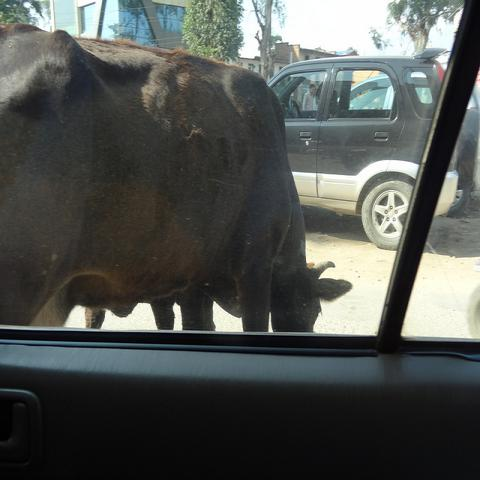car: (268, 49, 478, 251)
